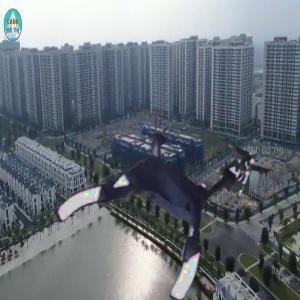drone: (65, 119, 234, 288)
